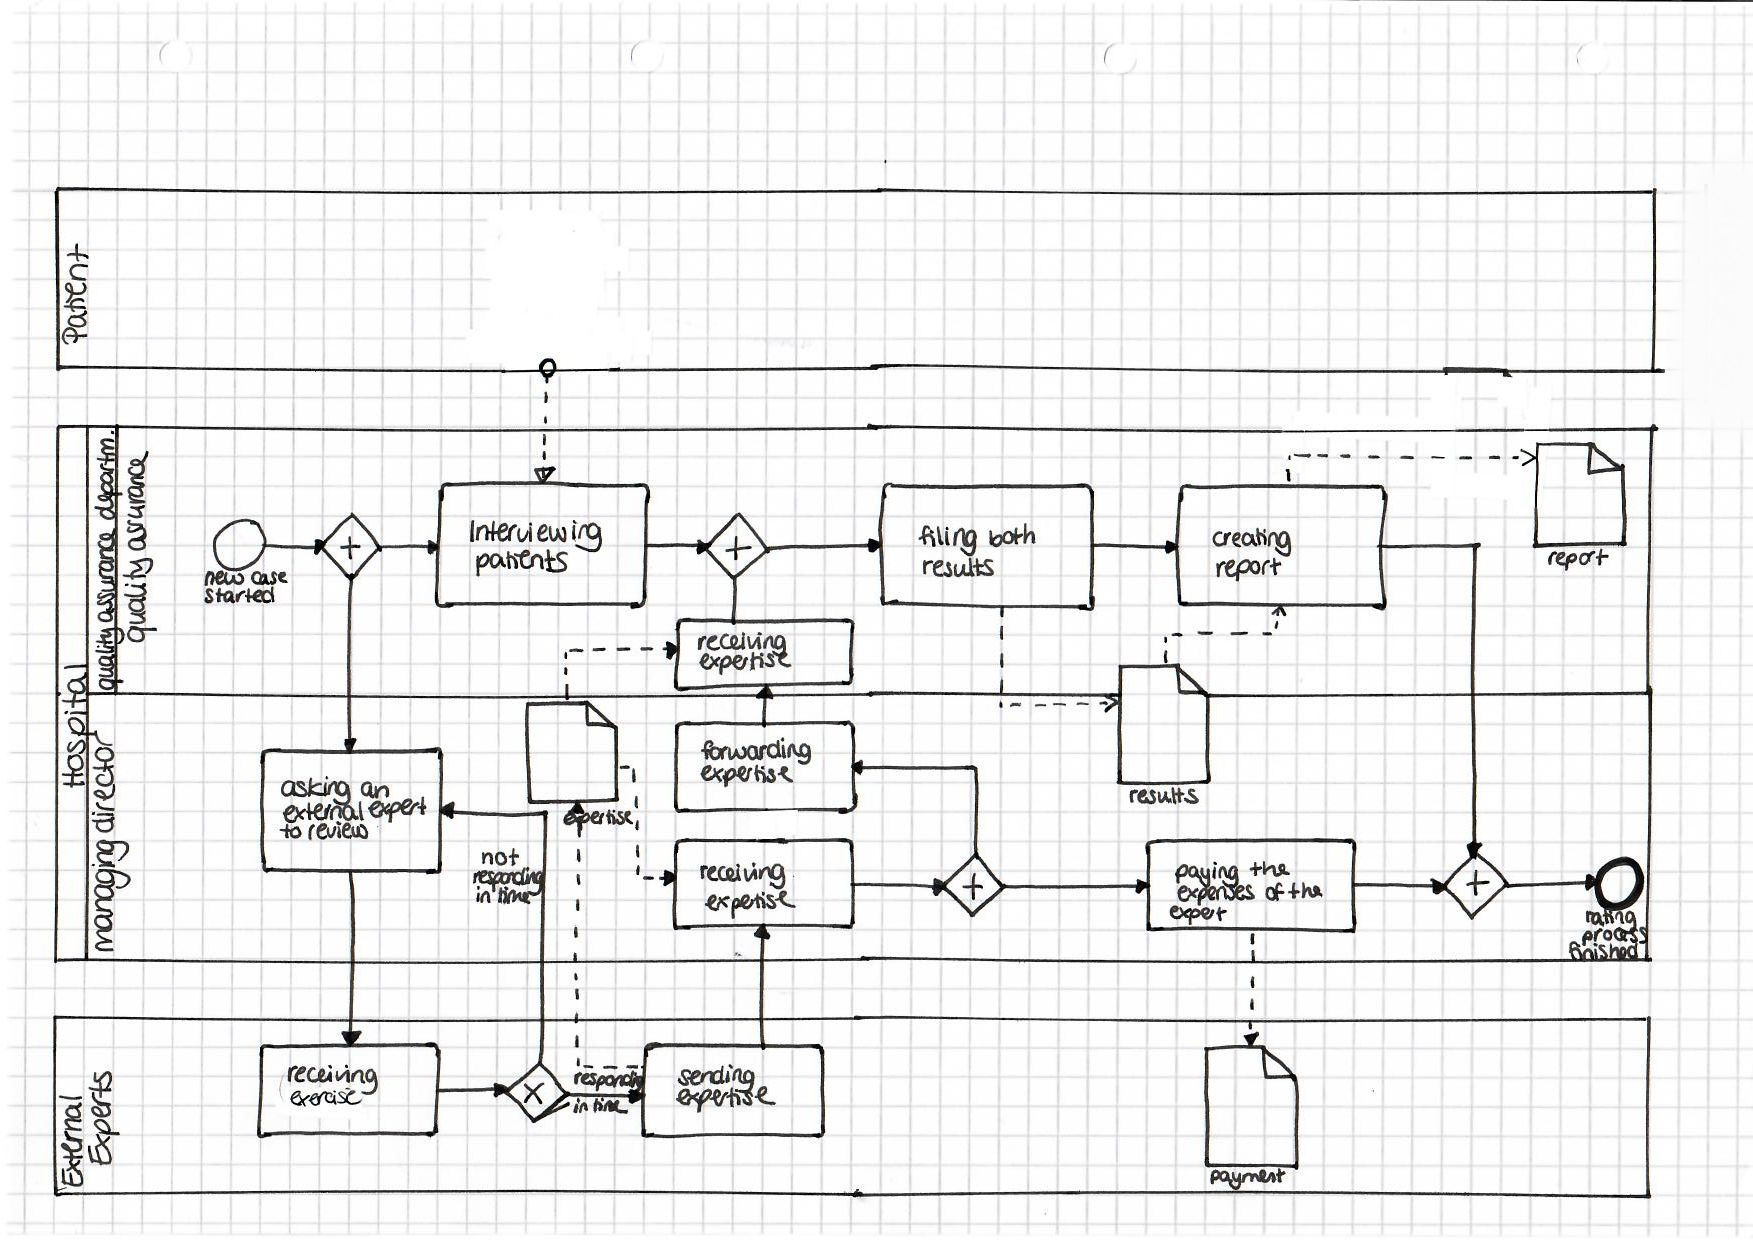Experts: (82, 1067, 125, 1171)
External: (51, 1089, 90, 1191)
Hospital: (52, 659, 101, 791)
Interviewing: (462, 512, 608, 559)
Patient: (54, 236, 96, 352)
an: (356, 777, 394, 802)
asking: (277, 772, 356, 810)
assurance: (121, 444, 154, 556), (90, 522, 122, 626)
both: (983, 519, 1040, 553)
case: (247, 567, 292, 588)
creating: (1207, 524, 1296, 561)
departm.: (89, 428, 127, 524)
director: (86, 725, 120, 837)
exercise: (285, 1084, 367, 1111)
expenses: (1173, 880, 1259, 910)
expert: (363, 793, 431, 827), (1166, 903, 1230, 928)
expertise: (671, 1082, 781, 1118), (700, 887, 801, 924), (694, 647, 795, 680), (695, 761, 798, 792), (559, 806, 638, 834)
external: (278, 797, 368, 828)
filing: (914, 520, 982, 561)
finished: (1565, 938, 1642, 964)
forwarding: (696, 733, 816, 769)
in: (569, 1094, 592, 1117), (473, 883, 494, 907)
managing: (85, 836, 136, 956)
new: (200, 567, 248, 591)
not: (477, 844, 523, 870)
of: (1261, 880, 1288, 905)
patients: (471, 544, 573, 582)
paying: (1171, 858, 1242, 893)
payment: (1205, 1163, 1290, 1193)
process: (1578, 923, 1652, 948)
quality: (115, 550, 163, 649), (89, 623, 130, 697)
rating: (1582, 905, 1640, 937)
receiving: (281, 1059, 384, 1101), (695, 857, 790, 895), (693, 627, 792, 660)
report: (1212, 555, 1284, 586), (1543, 544, 1613, 575)
responding: (469, 864, 548, 899), (569, 1068, 647, 1097)
results: (918, 553, 999, 582), (1125, 783, 1203, 809)
review: (303, 817, 373, 846)
sending: (672, 1060, 759, 1098)
started: (200, 582, 279, 608)
the: (1284, 878, 1328, 904), (1246, 858, 1295, 881)
time: (589, 1093, 632, 1118), (493, 883, 535, 908)
to: (276, 821, 306, 843)
